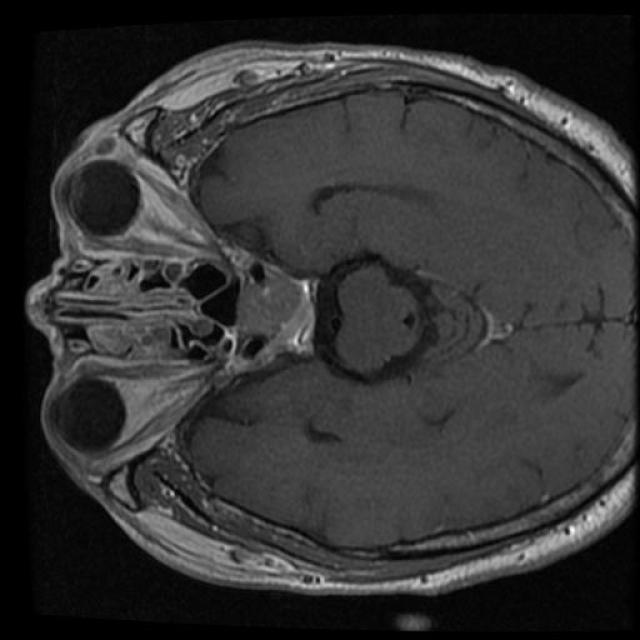Pituitary: (236, 267, 308, 344)
